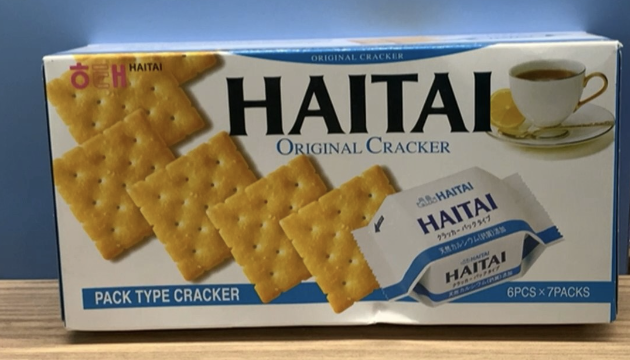crackers_150g: (66, 55, 601, 312)
